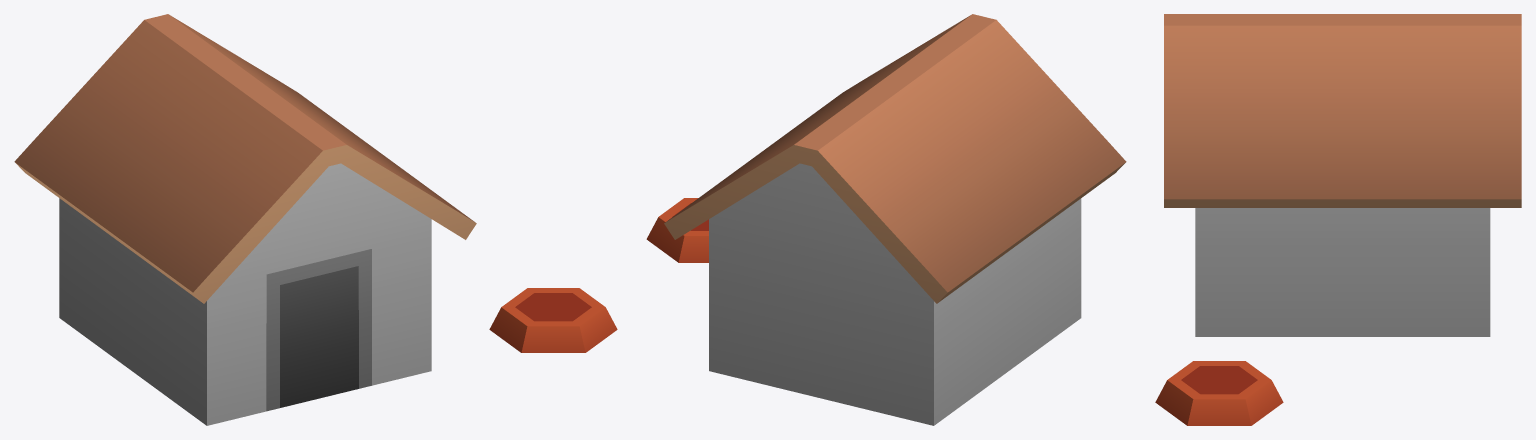
Rendered from dog house.fbx.
The picture shows the model from 3 angles, left to right: view 1: azimuth 30°, elevation 25°; view 2: azimuth 150°, elevation 25°; view 3: azimuth 270°, elevation 25°; orthographic projection.
Parts seen in each view (by area): view 1: dog_house; view 2: dog_house; view 3: dog_house.
Part boxes in pixels (bbox=[...]): dog_house: bbox=[14, 14, 617, 425]; dog_house: bbox=[646, 14, 1126, 425]; dog_house: bbox=[1155, 14, 1521, 425].
Bounding box in the file's own units: 304 × 175 × 221.
1 material, 1 textured.
